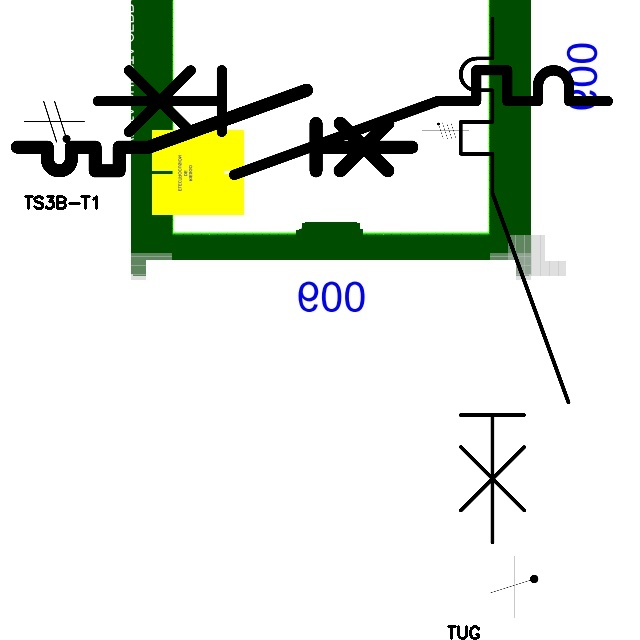interruptor_termomagnetico: (447, 5, 582, 555), (84, 57, 620, 188), (7, 80, 422, 181)
